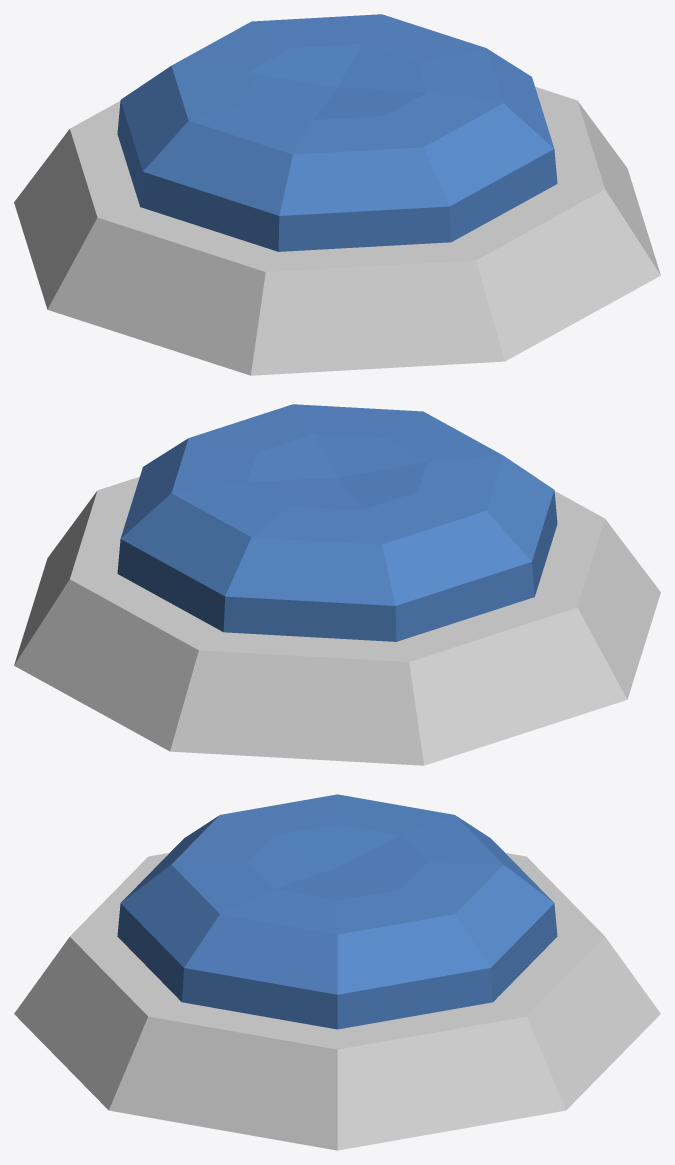
The model's file is ResetButton.fbx.
3 views of the same model, one above another, from view 1: azimuth 30°, elevation 25°; view 2: azimuth 150°, elevation 25°; view 3: azimuth 270°, elevation 25° (orthographic). The views are drawn at different scales.
Parts seen in each view (by area): view 1: ResetButtonBody, ResetButton; view 2: ResetButtonBody, ResetButton; view 3: ResetButtonBody, ResetButton.
Part boxes in pixels (box(x1,y1,x2,y2)): ResetButtonBody: box(14, 86, 660, 375); ResetButton: box(117, 14, 557, 251); ResetButtonBody: box(14, 476, 660, 765); ResetButton: box(117, 404, 557, 641); ResetButtonBody: box(14, 853, 660, 1150); ResetButton: box(117, 794, 557, 1029).
Bounding box in the file's own units: 0.0276 × 0.00712 × 0.0276.
